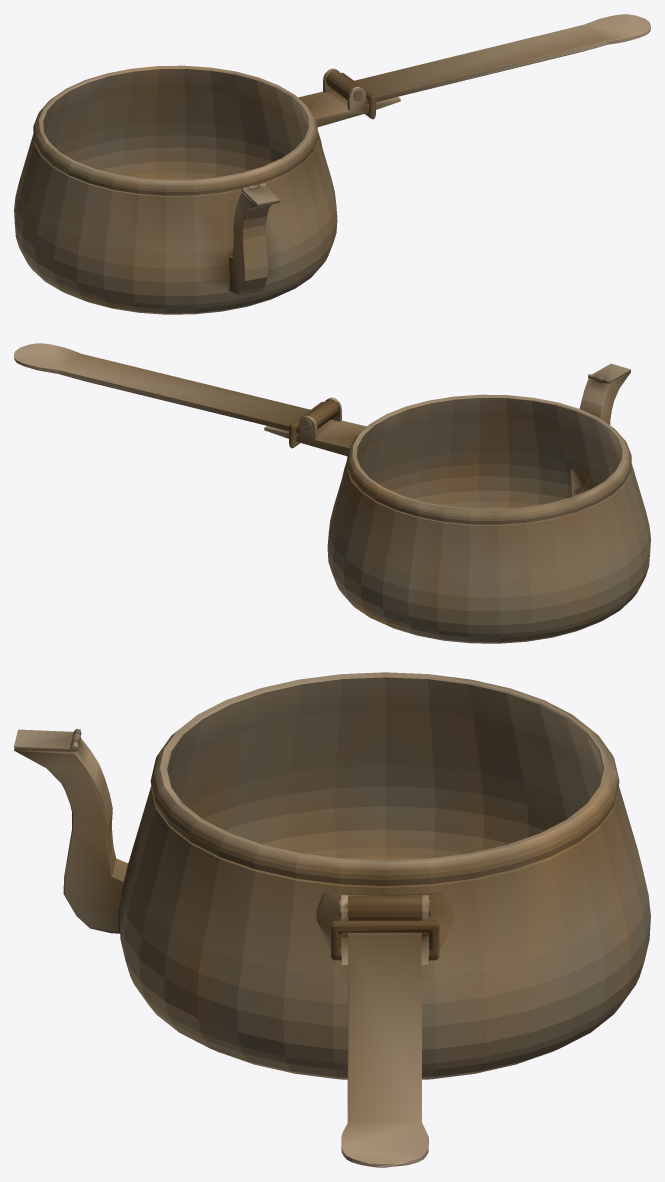
File: unhyun_pot_for_medicines_a4fe6dbb.glb
3 renders of one model, top to bottom at view 1: azimuth 30°, elevation 25°; view 2: azimuth 150°, elevation 25°; view 3: azimuth 270°, elevation 25°, orthographic. The views are drawn at different scales.
Parts seen in each view (by area): view 1: SM_PotForMedicines_M_PotForMedicines_0; view 2: SM_PotForMedicines_M_PotForMedicines_0; view 3: SM_PotForMedicines_M_PotForMedicines_0.
Boxes of the visible parts, x1,y1,x2,y2 form: SM_PotForMedicines_M_PotForMedicines_0: (14, 14, 650, 314); SM_PotForMedicines_M_PotForMedicines_0: (14, 343, 650, 643); SM_PotForMedicines_M_PotForMedicines_0: (14, 672, 650, 1167).
Size of the model in its own units: 0.3093 by 0.0733 by 0.1699.
